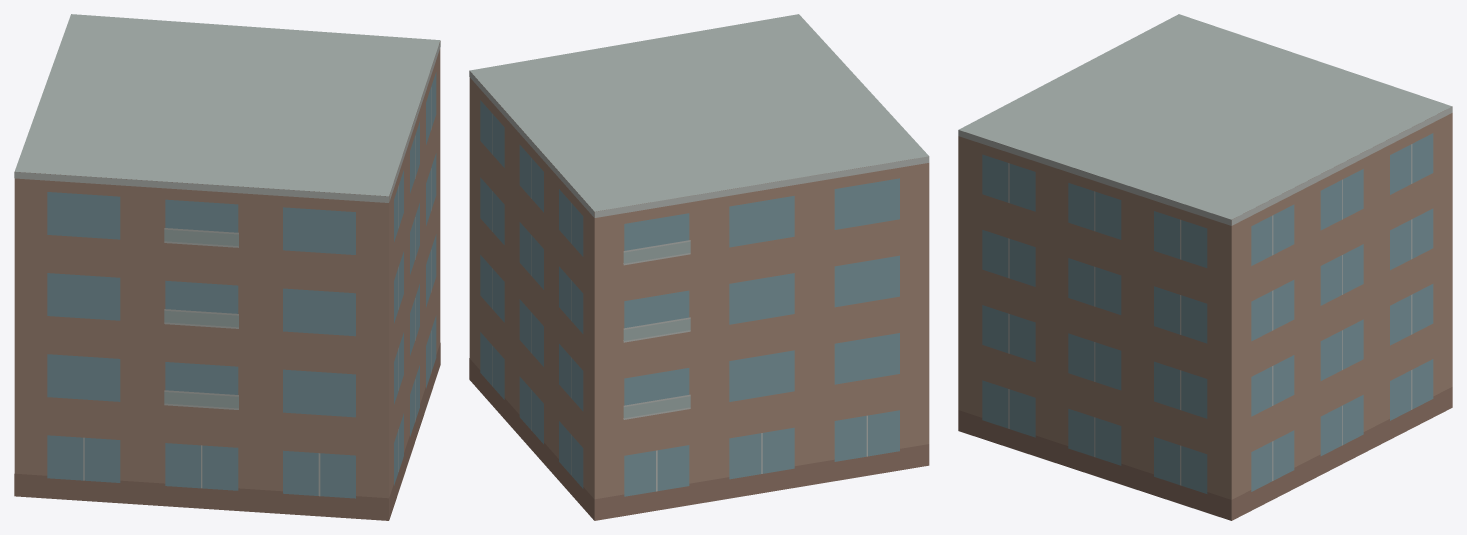
Rendered from survey-upis-32918017.glb.
3 renders of one model, left to right at view 1: azimuth 30°, elevation 25°; view 2: azimuth 150°, elevation 25°; view 3: azimuth 270°, elevation 25°, orthographic. The views are drawn at different scales.
Parts seen in each view (by area): view 1: survey-upis-32918017.tmp; view 2: survey-upis-32918017.tmp; view 3: survey-upis-32918017.tmp.
Boxes of the visible parts, box(x1,y1,x2,y2) form: survey-upis-32918017.tmp: box(14, 14, 440, 520); survey-upis-32918017.tmp: box(469, 14, 929, 520); survey-upis-32918017.tmp: box(958, 14, 1452, 520).
Size of the model in its own units: 17.15 by 11.7 by 17.41.
